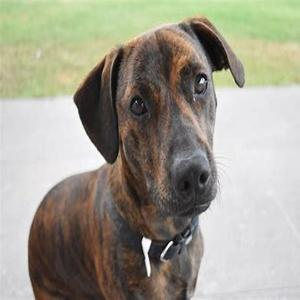dog: (78, 31, 224, 219)
